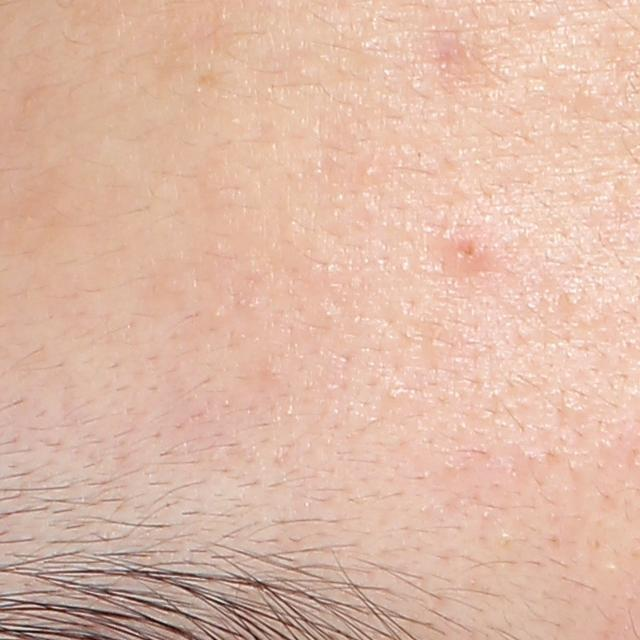comedo: (364, 163, 377, 178)
papule: (442, 224, 495, 279)
